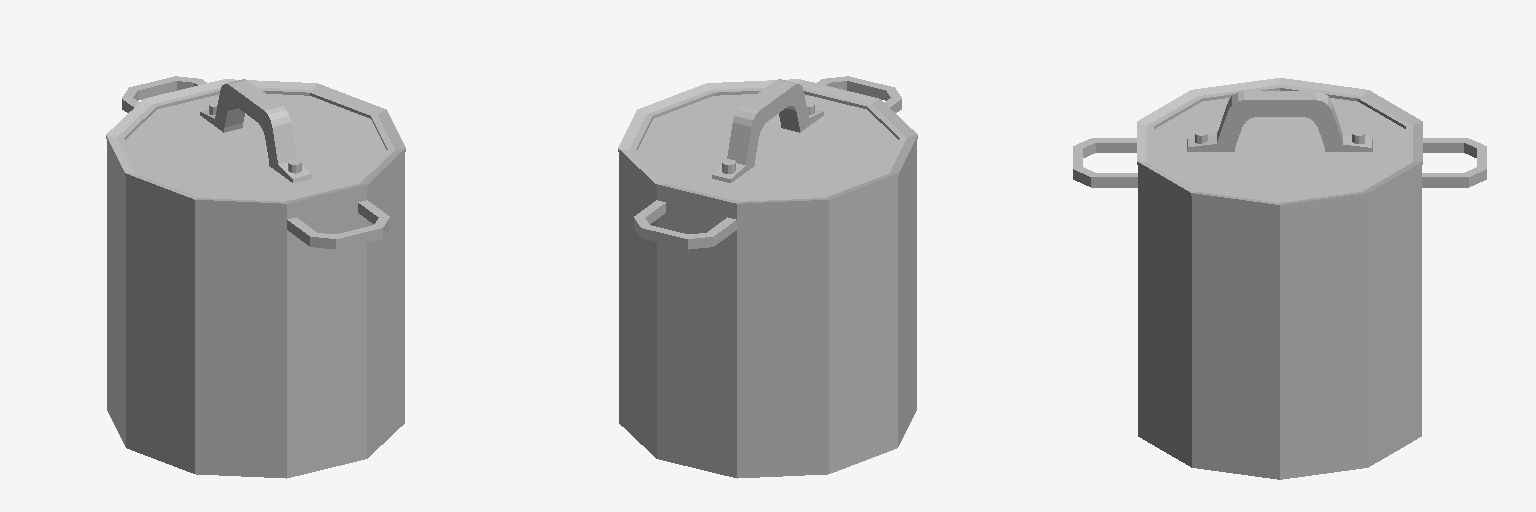
Rendered from pan_stock_pot.obj.
3 views of the same model, side by side, from view 1: azimuth 30°, elevation 25°; view 2: azimuth 150°, elevation 25°; view 3: azimuth 270°, elevation 25° (orthographic).
Visible parts, largest first — view 1: pan_stock_pot_Cylinder.094, pan_stock_pot.001lid_Cylinder.095; view 2: pan_stock_pot_Cylinder.094, pan_stock_pot.001lid_Cylinder.095; view 3: pan_stock_pot_Cylinder.094, pan_stock_pot.001lid_Cylinder.095.
Part boxes in pixels (left/top/right/bottom): pan_stock_pot_Cylinder.094: left=107, top=76, right=404, bottom=478; pan_stock_pot.001lid_Cylinder.095: left=106, top=79, right=405, bottom=206; pan_stock_pot_Cylinder.094: left=619, top=76, right=916, bottom=478; pan_stock_pot.001lid_Cylinder.095: left=618, top=79, right=917, bottom=206; pan_stock_pot_Cylinder.094: left=1073, top=138, right=1486, bottom=479; pan_stock_pot.001lid_Cylinder.095: left=1137, top=78, right=1422, bottom=207.
Bounding box in the file's own units: 6.64 × 7.8 × 9.12.